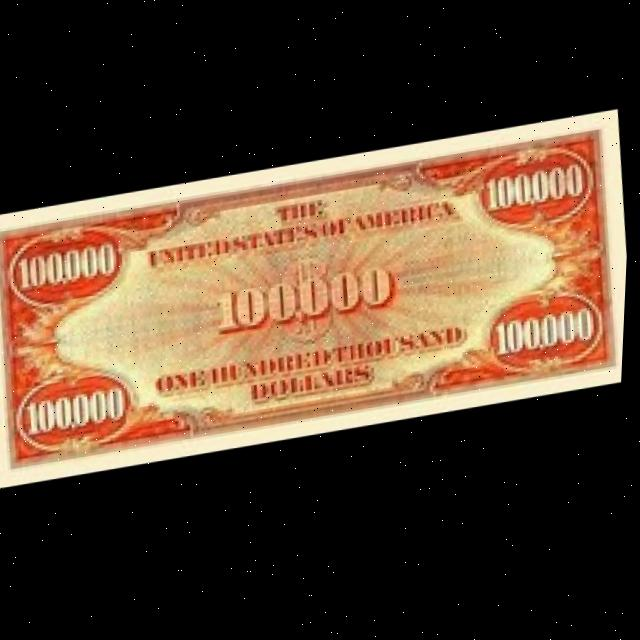banknote: (0, 116, 635, 483)
